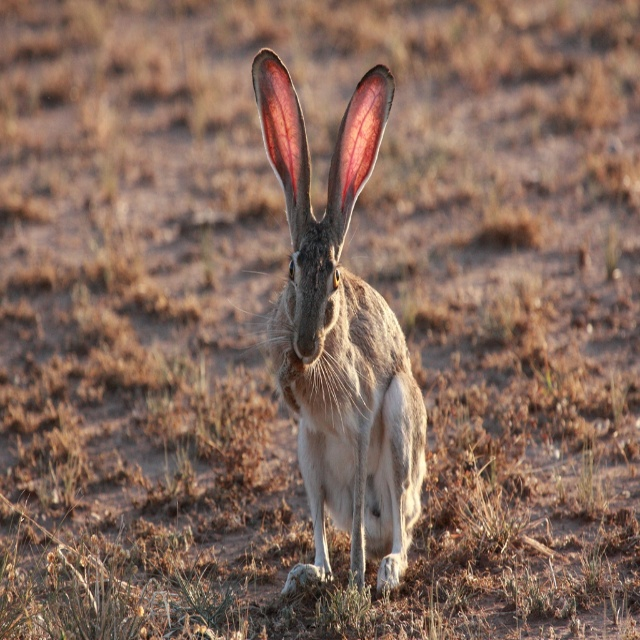Rabbit: (226, 48, 430, 603)
